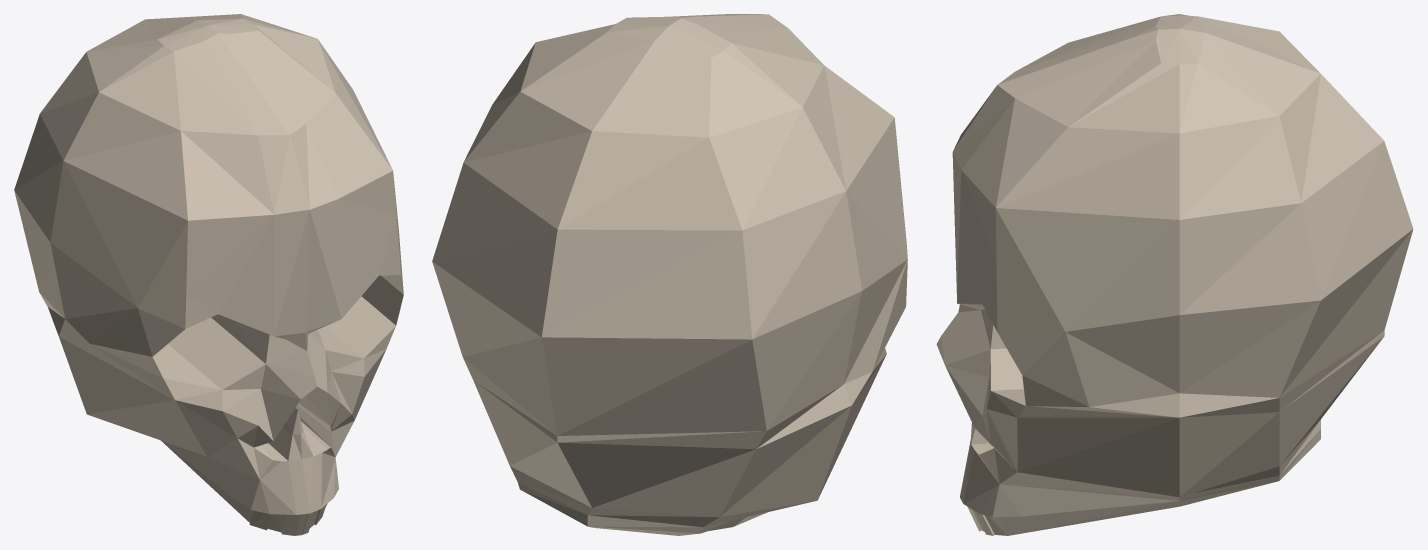
File: Totenkopf.fbx
3 views of the same model, side by side, from view 1: azimuth 30°, elevation 25°; view 2: azimuth 150°, elevation 25°; view 3: azimuth 270°, elevation 25° (orthographic). The views are drawn at different scales.
Visible parts, largest first — view 1: Kugel_1; view 2: Kugel_1; view 3: Kugel_1.
Boxes of the visible parts, x1,y1,x2,y2 form: Kugel_1: (14,14,403,535); Kugel_1: (432,14,907,535); Kugel_1: (936,14,1413,535).
Bounding box in the file's own units: 153 × 205 × 178.
